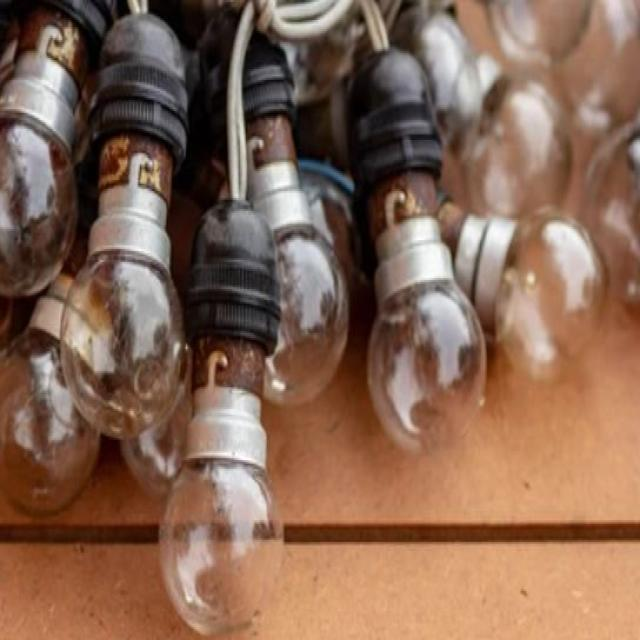electronic: (0, 0, 639, 635), (365, 192, 487, 454)
